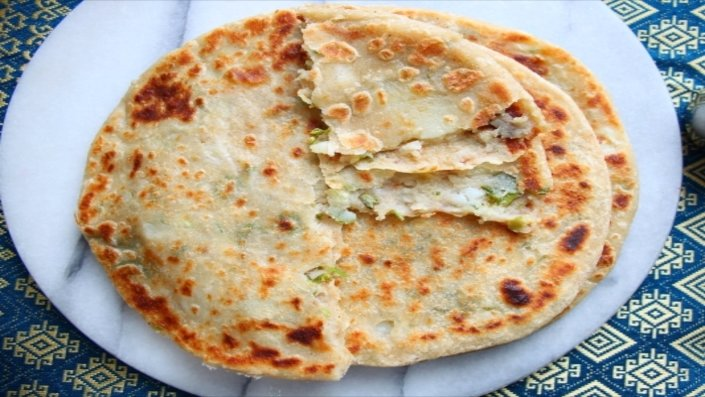aloo_paratha: (72, 4, 639, 383)
